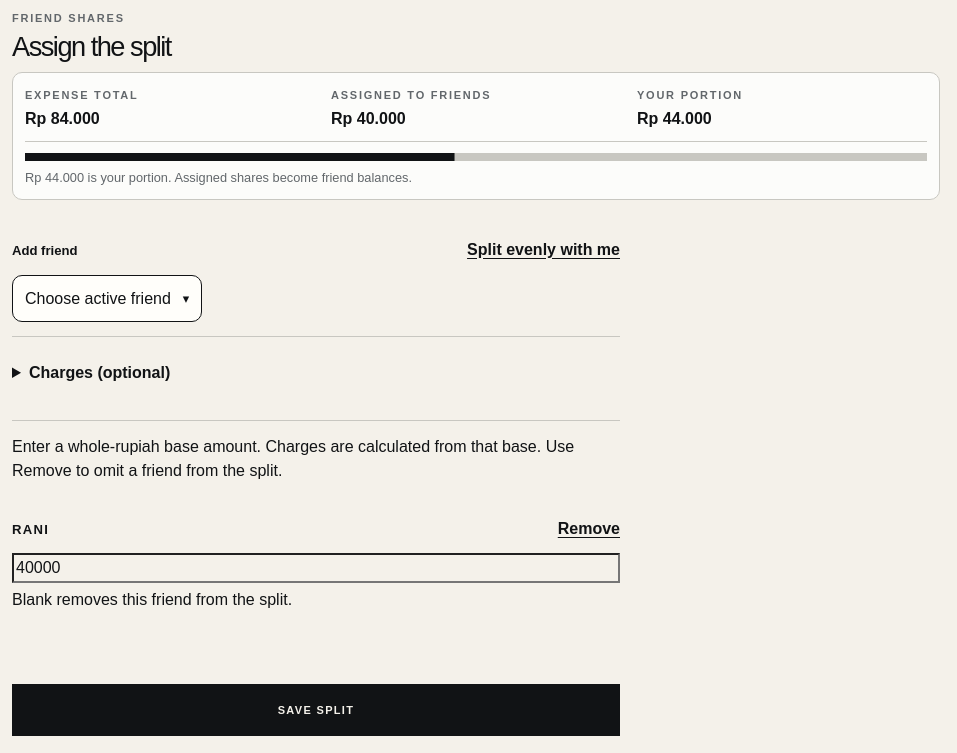
Scenario: expense share editor › does not offer archived candidates through the multi-select
Click the dropdown named "Add friend" at (107, 299), box left=12, top=275, right=202, bottom=322
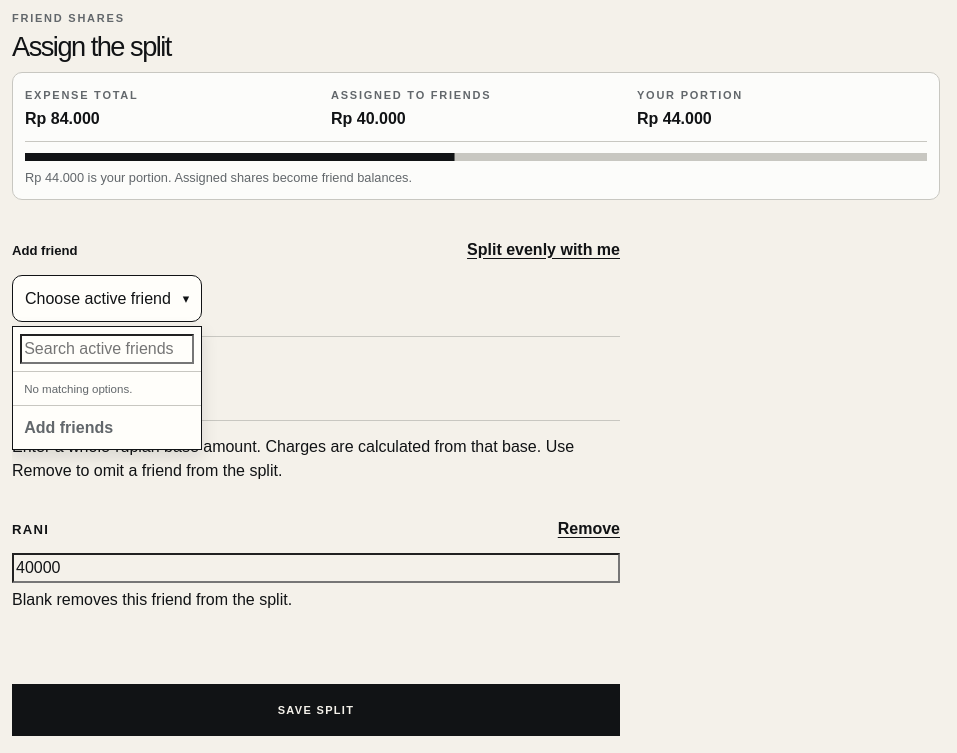
Check: the list item "No matching options." is shown, box left=24, top=383, right=132, bottom=395
